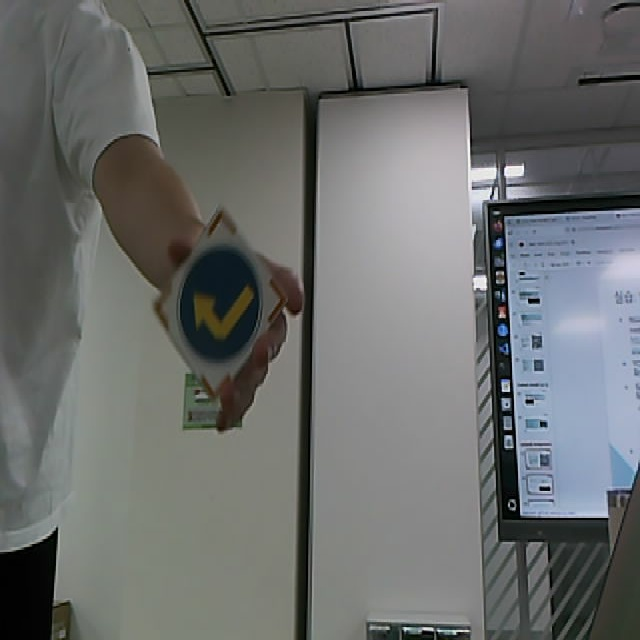right: (154, 208, 287, 400)
